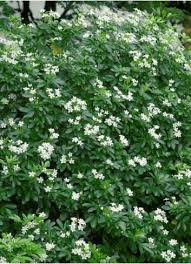flower: (63, 178, 70, 182)
